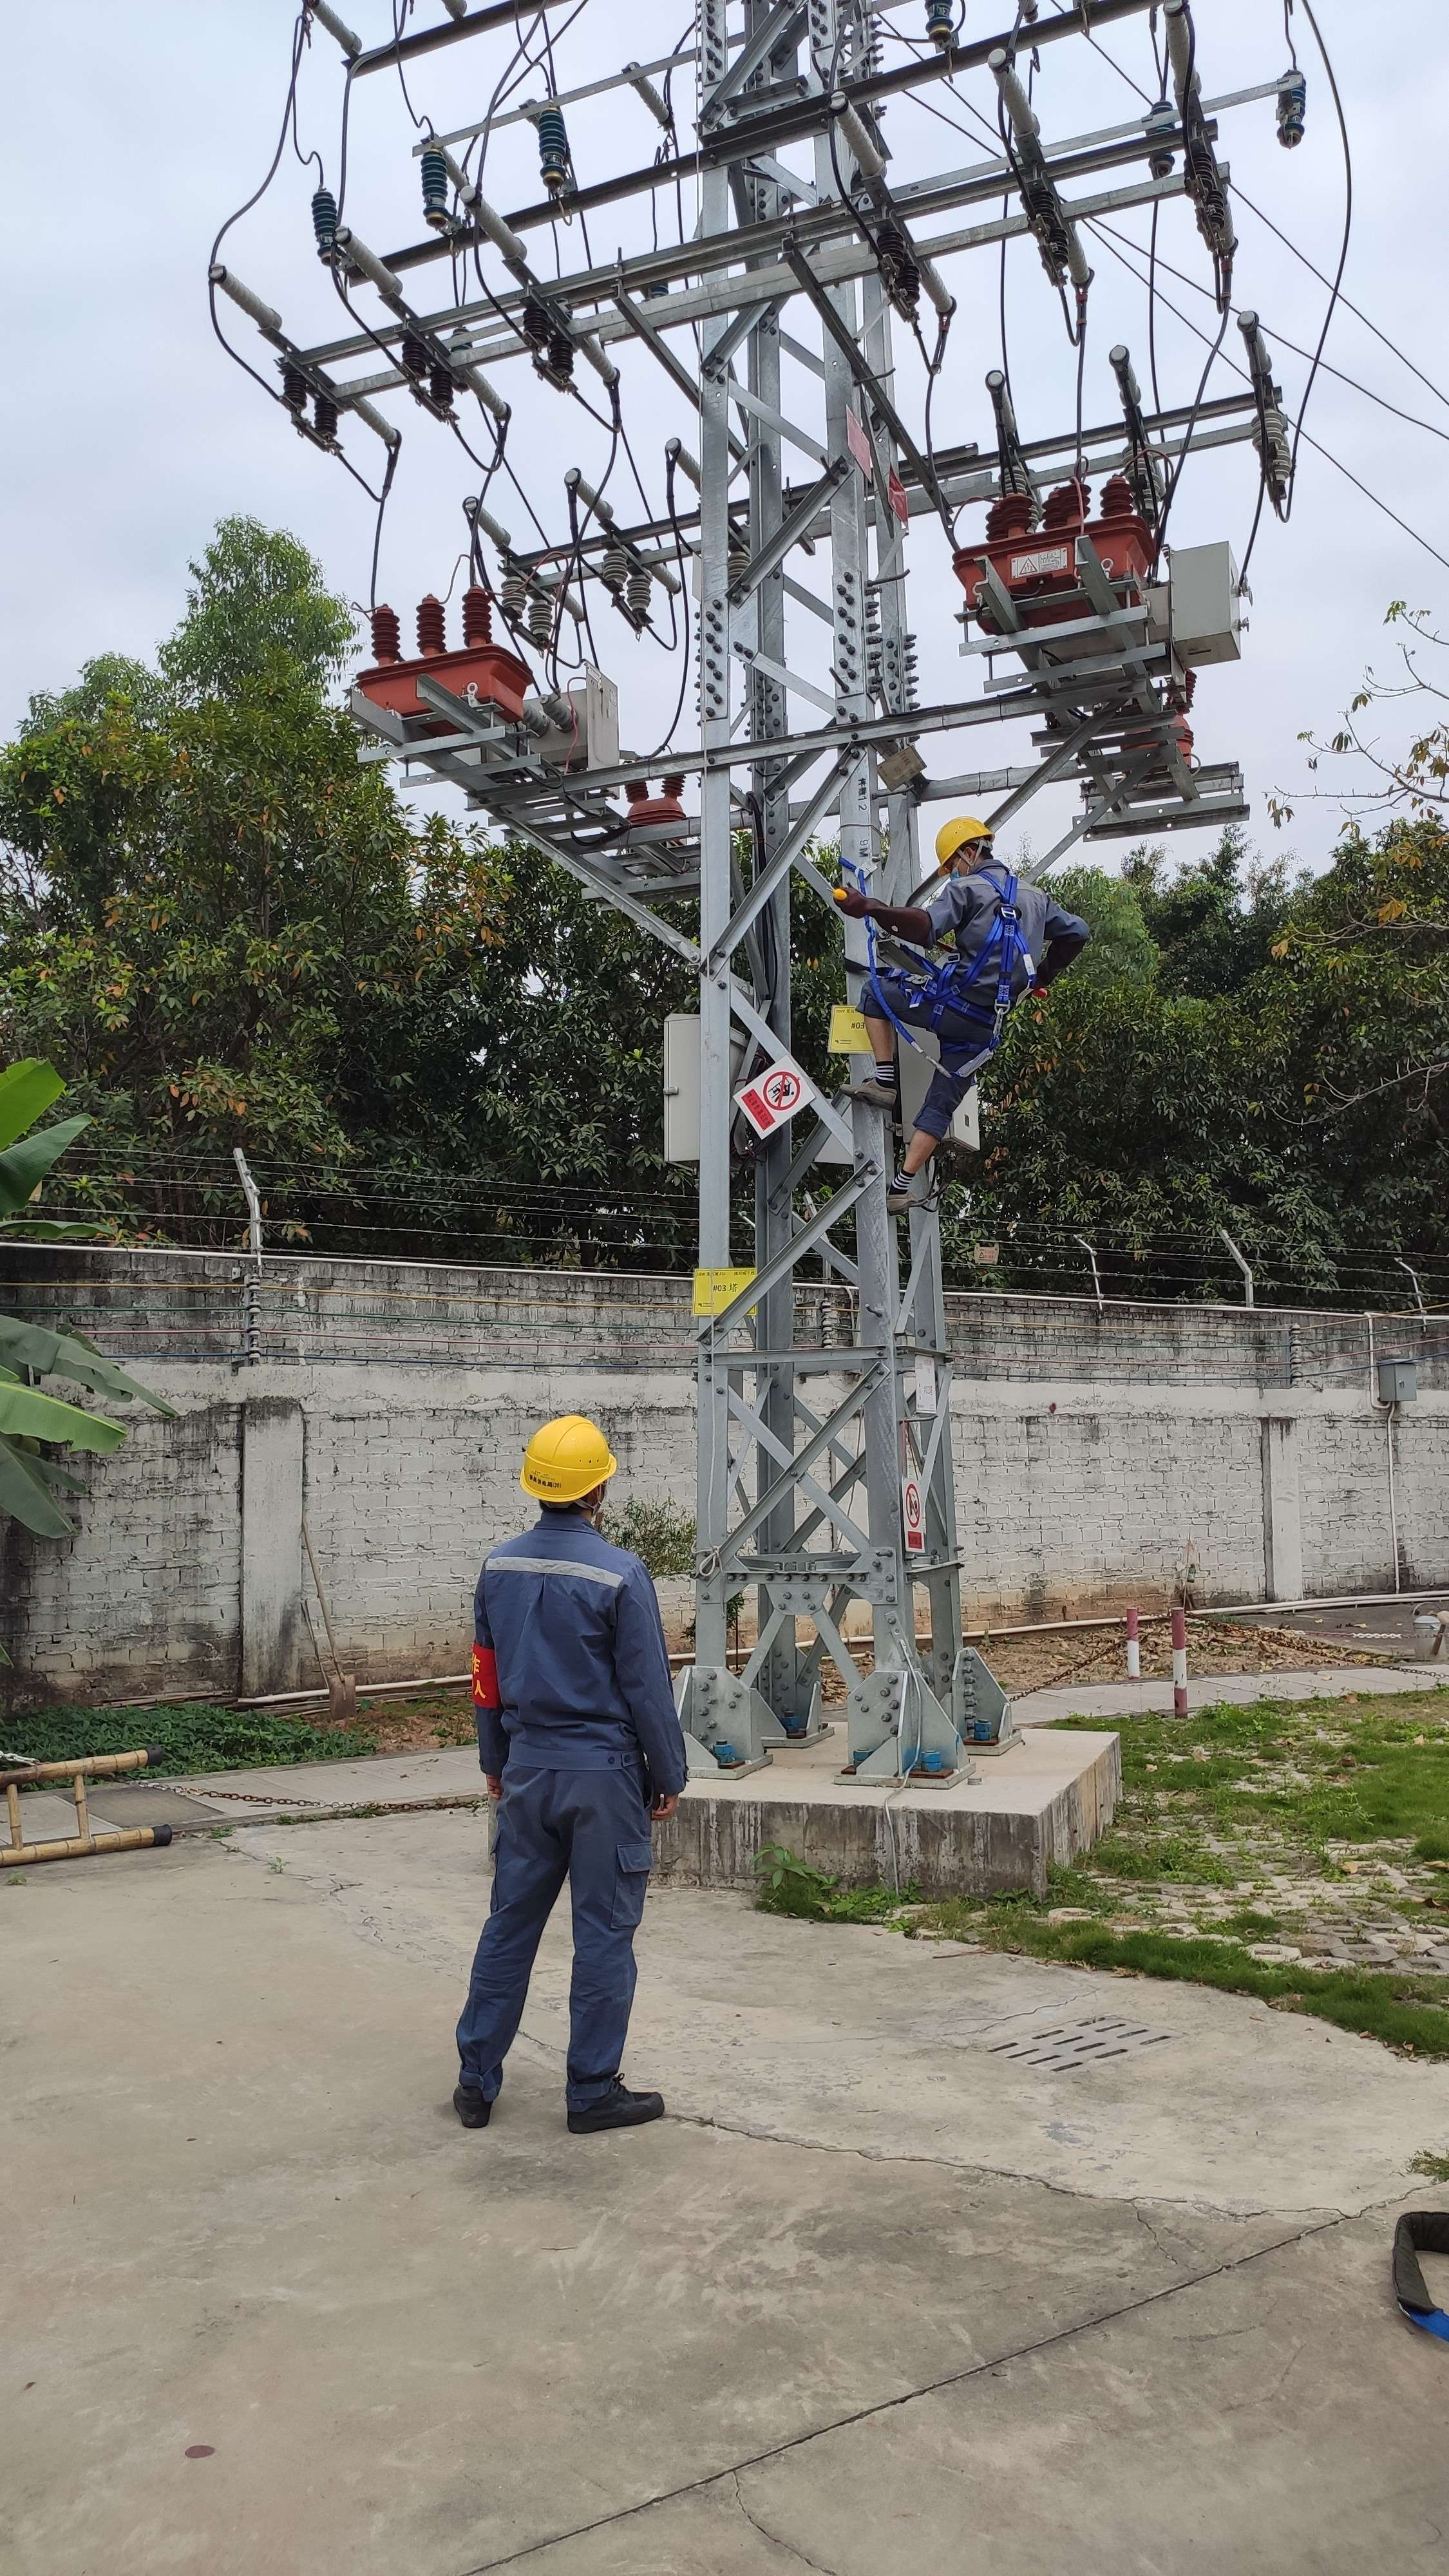downsuit: (458, 1773, 656, 2091), (865, 973, 1030, 1143)
upsuit: (469, 1532, 692, 1794), (924, 878, 1060, 966)
wrongbottom: (862, 1000, 901, 1069), (904, 1122, 945, 1175)
